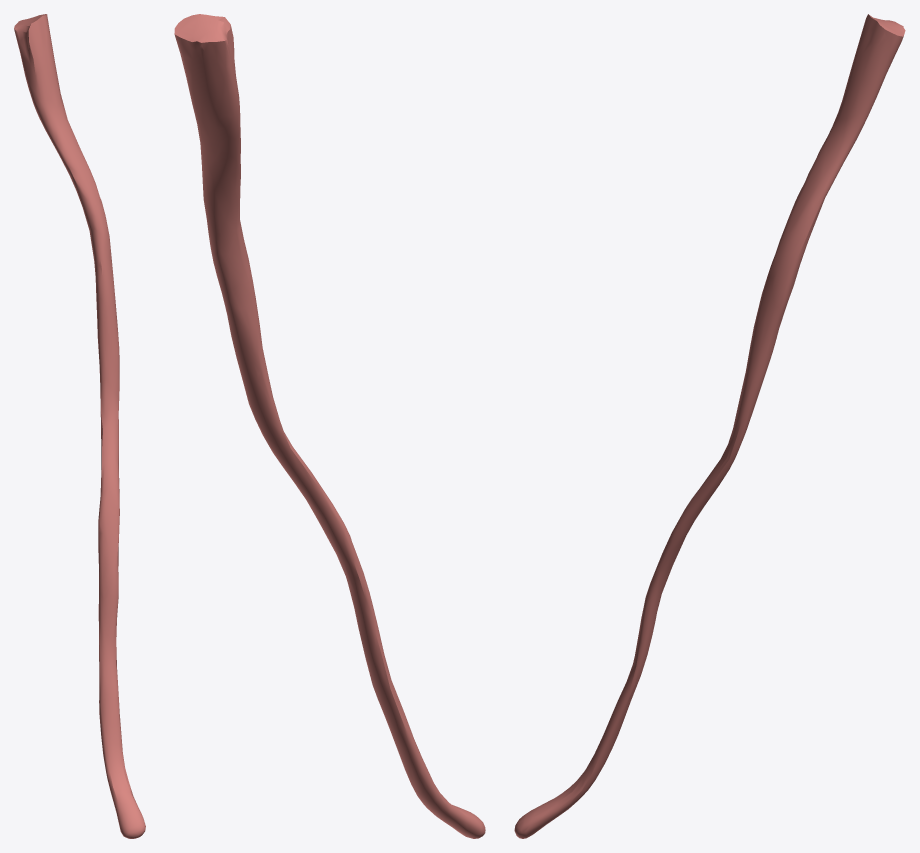
The model's file is fma40751_mm1962m.glb.
The picture shows the model from 3 angles, left to right: view 1: azimuth 30°, elevation 25°; view 2: azimuth 150°, elevation 25°; view 3: azimuth 270°, elevation 25°; orthographic projection. The views are drawn at different scales.
Visible parts, largest first — view 1: FMA40751_MM1962M; view 2: FMA40751_MM1962M; view 3: FMA40751_MM1962M.
Part boxes in pixels (x1,y1,x2,y2): FMA40751_MM1962M: [14, 14, 145, 838]; FMA40751_MM1962M: [174, 14, 485, 838]; FMA40751_MM1962M: [514, 14, 905, 838].
Size of the model in its own units: 0.0184 by 0.1305 by 0.0545.
